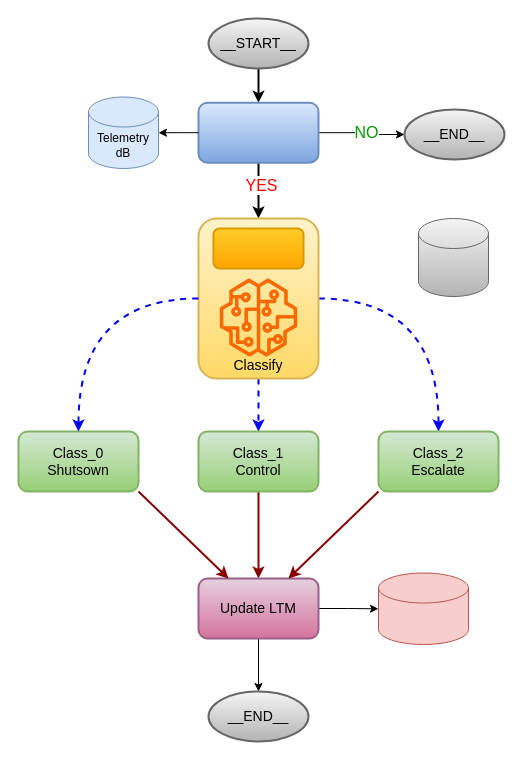
Some shapes in this 522 by 759 pixel diagram are drawn without their labels. Each missing label, with the centre of its shape:
"Anomaly Detection" belongs at [258,132].
"Anomaly LTM dB" belongs at [423,608].
"Fetch LTM" belongs at [258,248].
"Workfklow Checkpoint dB" belongs at [453,257].
